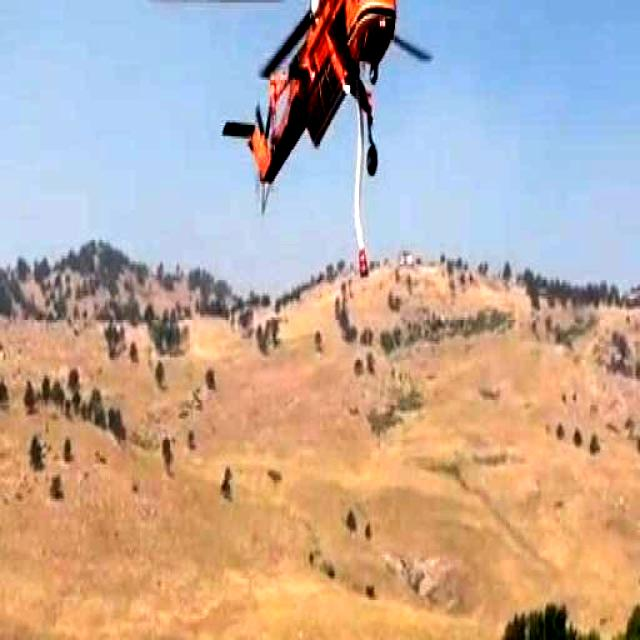drone: (136, 0, 514, 222)
